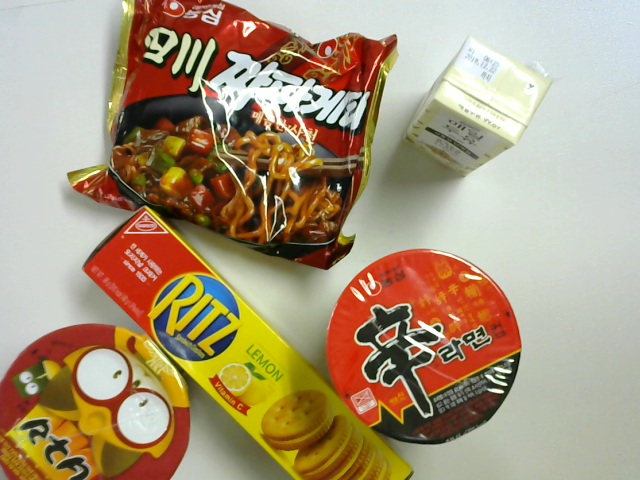99.89_Soymilk: (409, 34, 551, 182)
Raccoon: (3, 324, 191, 480)
Ritz_Remon_96g: (77, 206, 409, 480)
Sichuan_Chapaghetti: (69, 4, 381, 264)
Sinramen_small: (317, 252, 525, 440)
